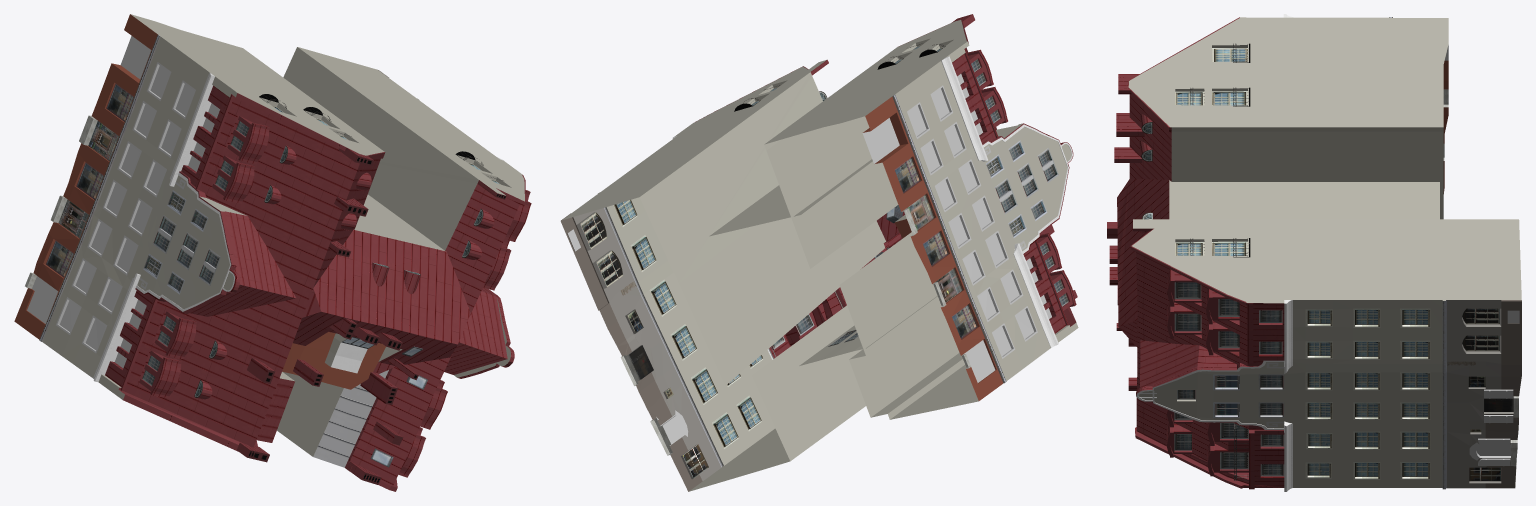
File: Pikk_40.obj
3 renders of one model, left to right at view 1: azimuth 30°, elevation 25°; view 2: azimuth 150°, elevation 25°; view 3: azimuth 270°, elevation 25°, orthographic. The views are drawn at different scales.
Visible parts, largest first — view 1: Pikk_40; view 2: Pikk_40; view 3: Pikk_40.
Boxes of the visible parts, x1,y1,x2,y2 form: Pikk_40: (14, 14, 531, 491); Pikk_40: (560, 14, 1078, 491); Pikk_40: (1107, 14, 1521, 491).
Size of the model in its own units: 35.14 by 34.13 by 31.91.
